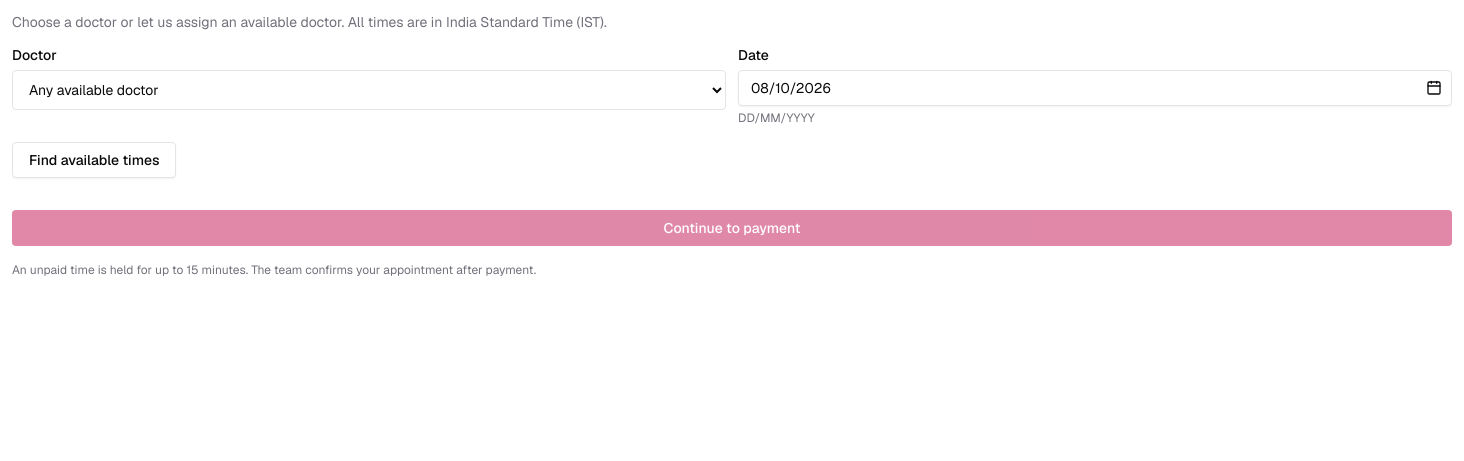
Scenario: consultation duration limit › moves the end with the start and clips it to the doctor's closing time
Step 1. Replace the text in the field labelled "Date" with "05/10/2099" → (1095, 88), box [738, 70, 1452, 106]
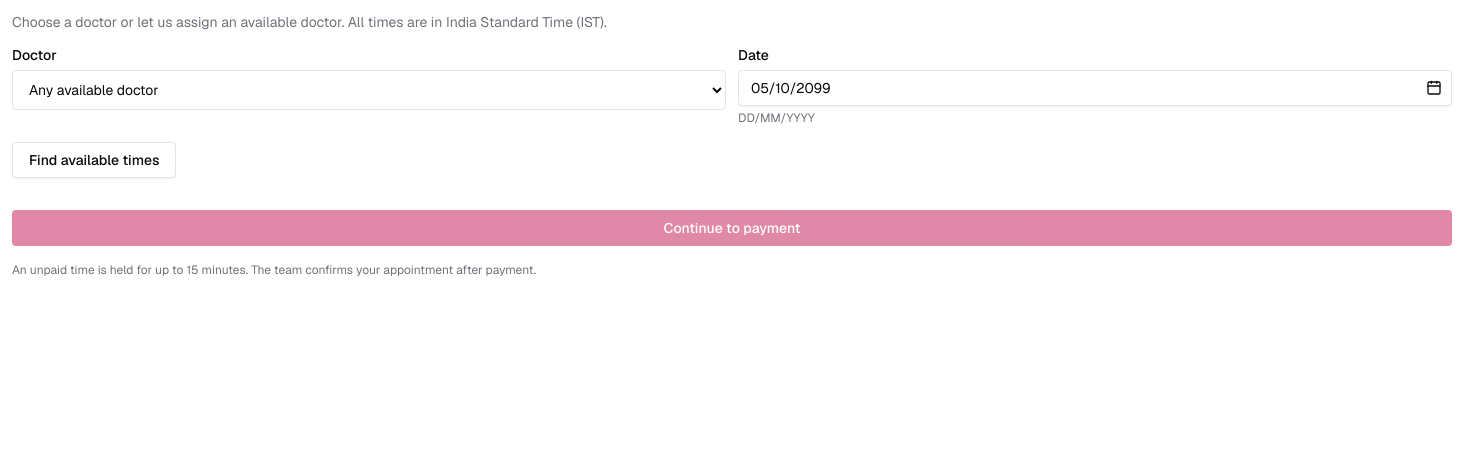
Step 2. Click the button "Find available times" → (94, 160), box [12, 142, 176, 178]
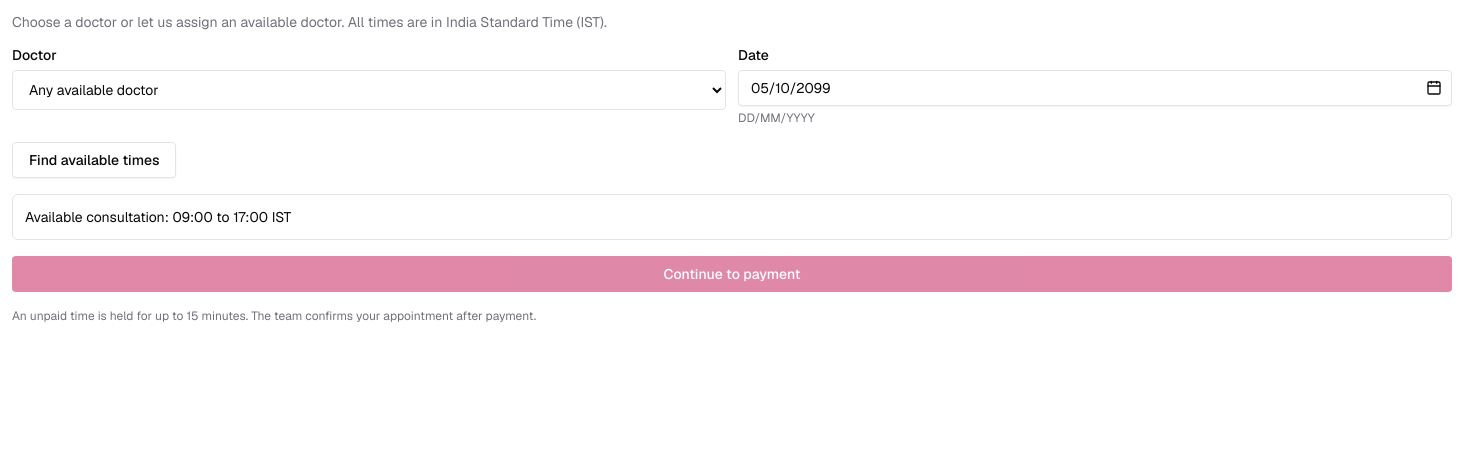
Step 3. Click the button "Available consultation: 09:00 to 17:00 IST" → (95, 217), box [12, 194, 1452, 240]
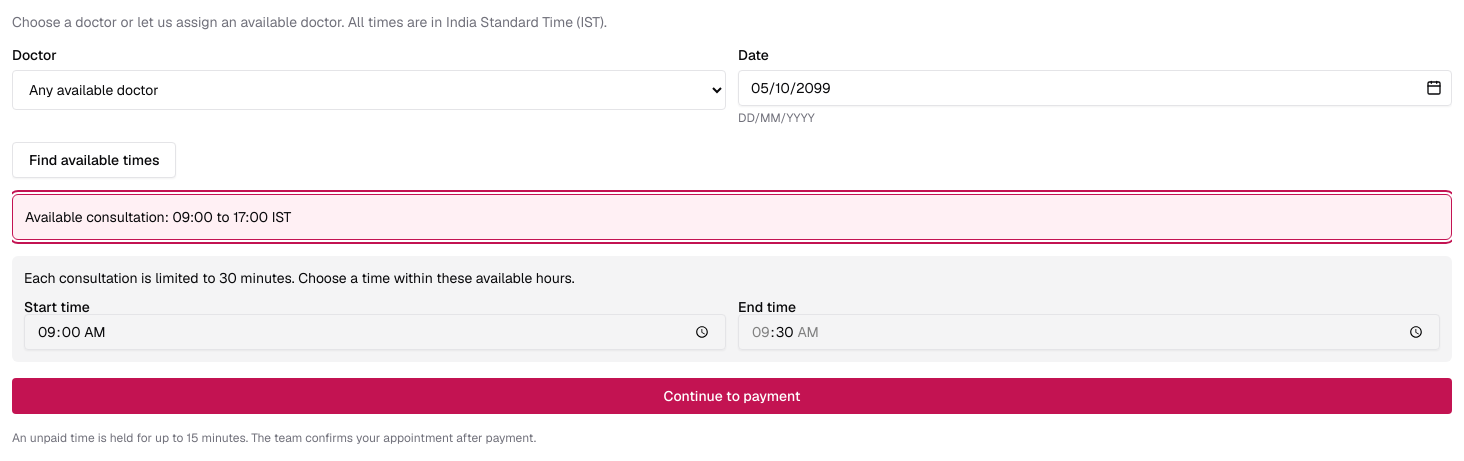
Step 4. Replace the text in the time field labelled "Start time" with "11:00" → (375, 332), box [24, 314, 726, 350]
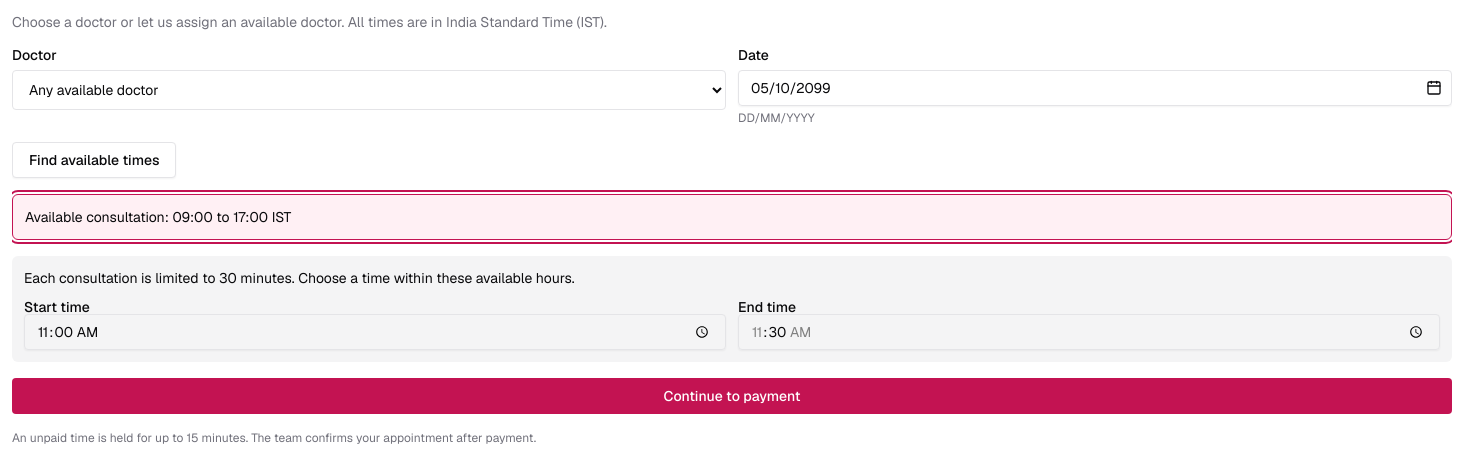
Expected: the time field labelled "End time" holds "11:30", [738, 314, 1440, 350]
Step 5. Replace the text in the time field labelled "Start time" with "16:45" → (375, 332), box [24, 314, 726, 350]
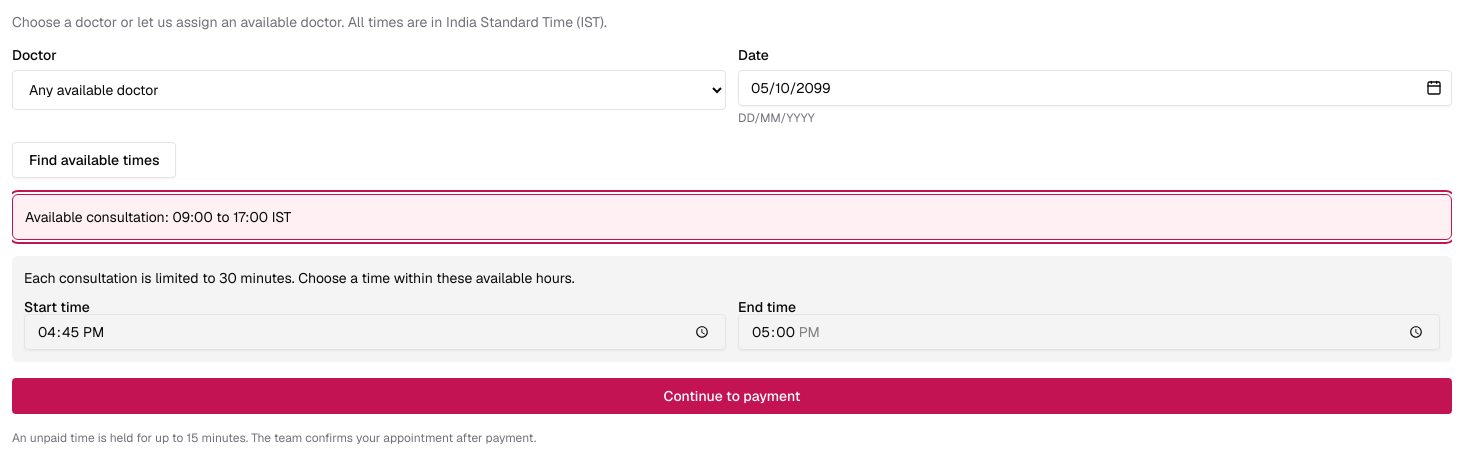
Expected: the time field labelled "End time" holds "17:00", [738, 314, 1440, 350]
Step 6. Clear the time field labelled "Start time" → (375, 332), box [24, 314, 726, 350]
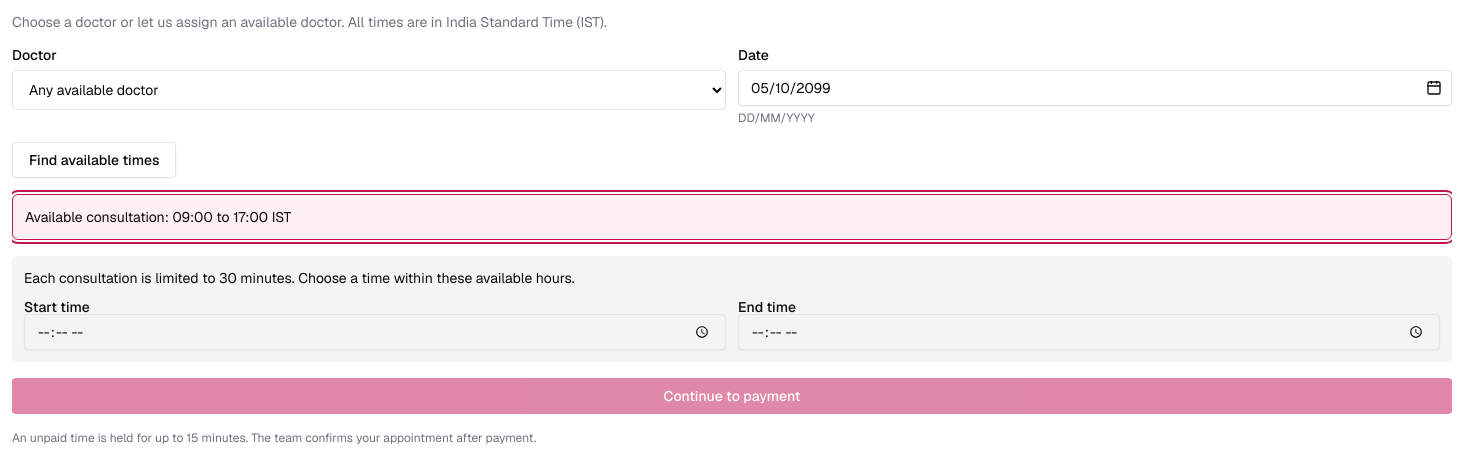
Expected: the time field labelled "End time" is empty, [738, 314, 1440, 350]
Expected: the button "Continue to payment" is disabled, [12, 378, 1452, 414]
